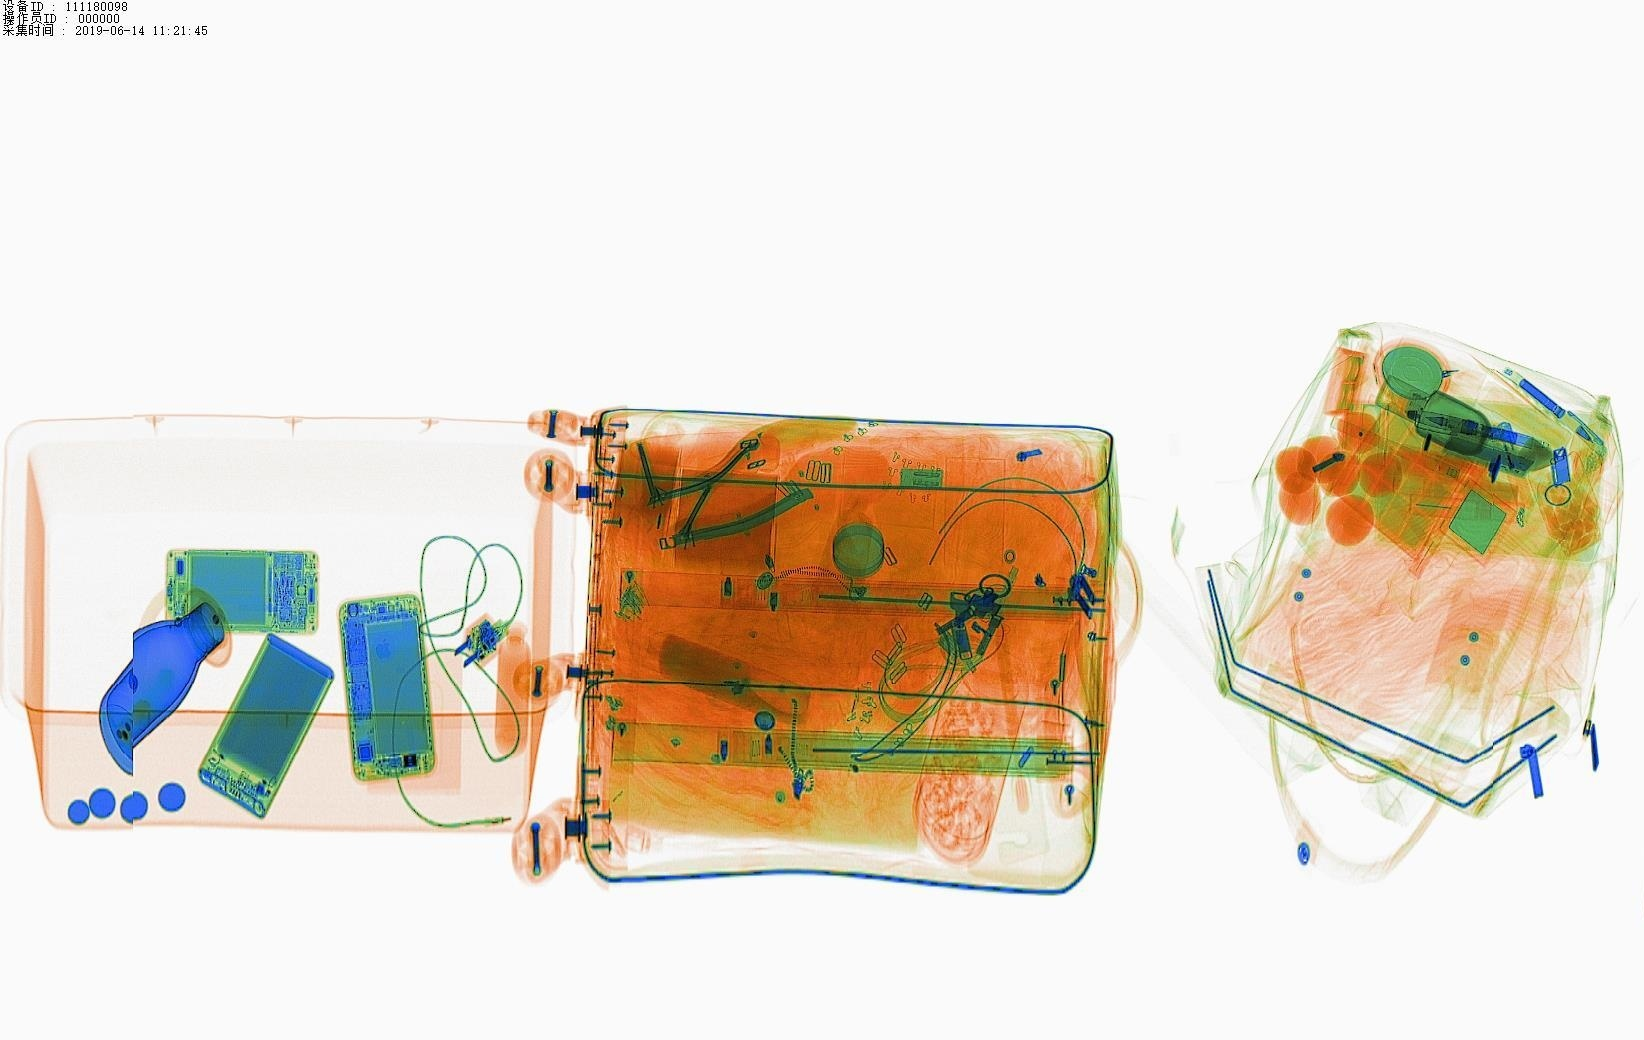NonmetallicFire: (1495, 416, 1551, 530)
